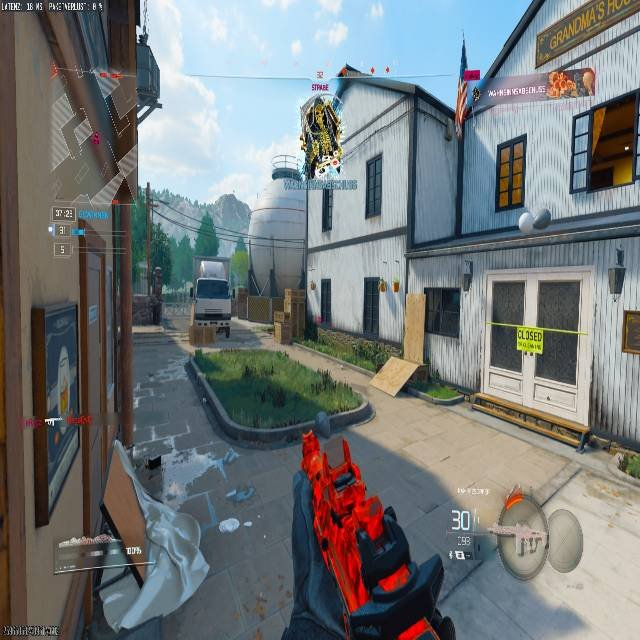player: (299, 75, 343, 178)
